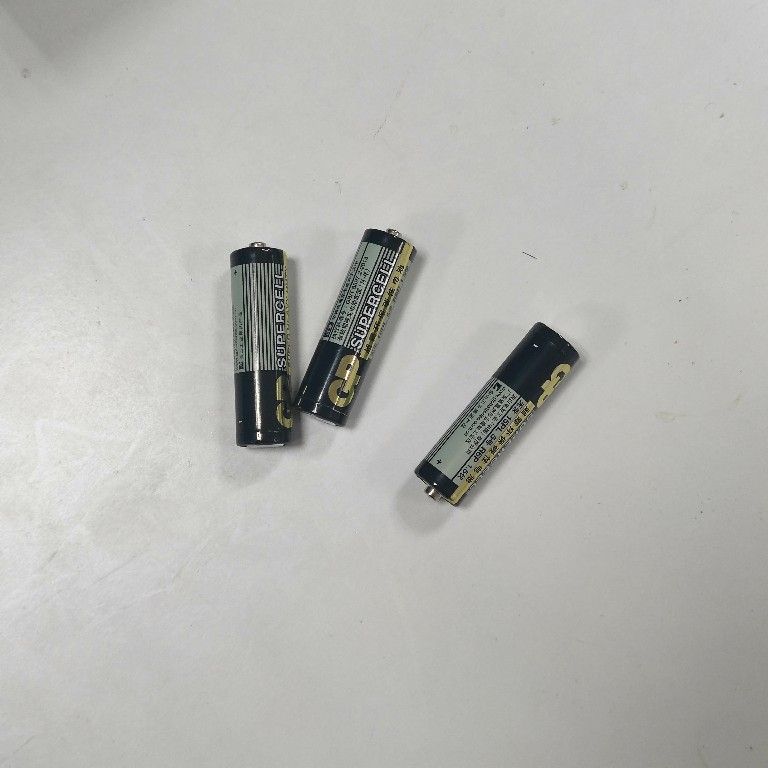charge: (411, 320, 582, 509), (289, 222, 419, 431), (223, 239, 302, 456)
